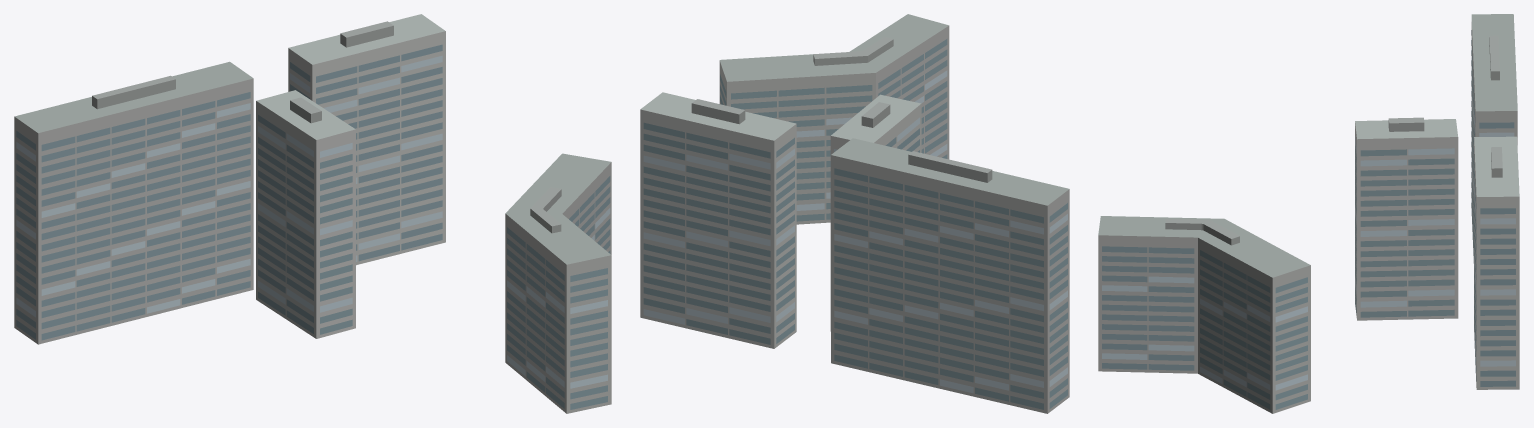
File: apt-a13980413.glb
3 views of the same model, side by side, from view 1: azimuth 30°, elevation 25°; view 2: azimuth 150°, elevation 25°; view 3: azimuth 270°, elevation 25° (orthographic). The views are drawn at different scales.
Visible parts, largest first — view 1: apt-a13980413; view 2: apt-a13980413; view 3: apt-a13980413.
Part boxes in pixels (box(x1,y1,x2,y2)): apt-a13980413: box(14, 14, 611, 413); apt-a13980413: box(640, 14, 1069, 413); apt-a13980413: box(1098, 14, 1519, 413).
Size of the model in its own units: 112 by 51 by 96.47.
